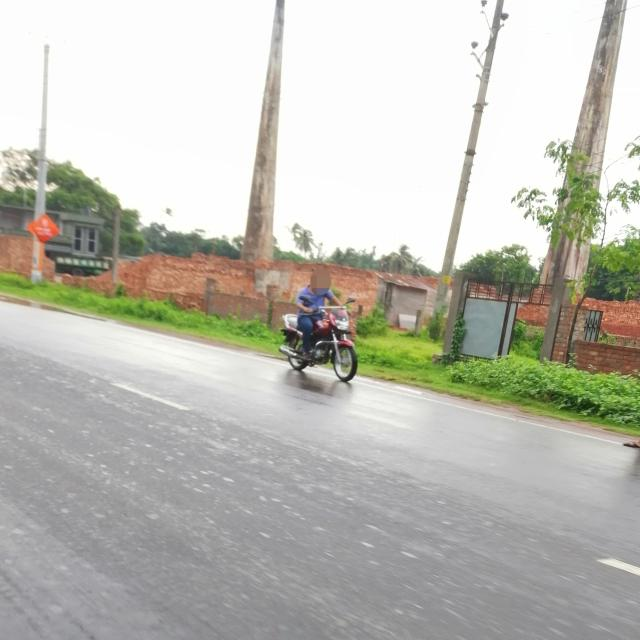Motorbike: (274, 297, 370, 385)
